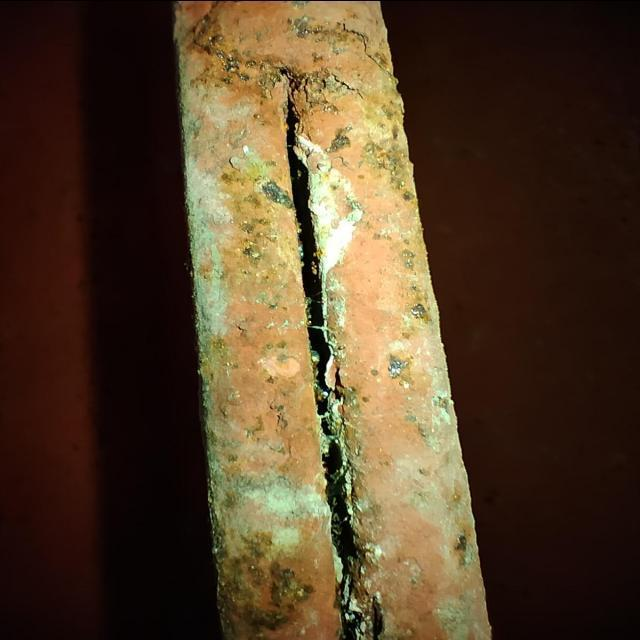Crack: (279, 92, 387, 640), (337, 19, 387, 72), (327, 70, 369, 102)
